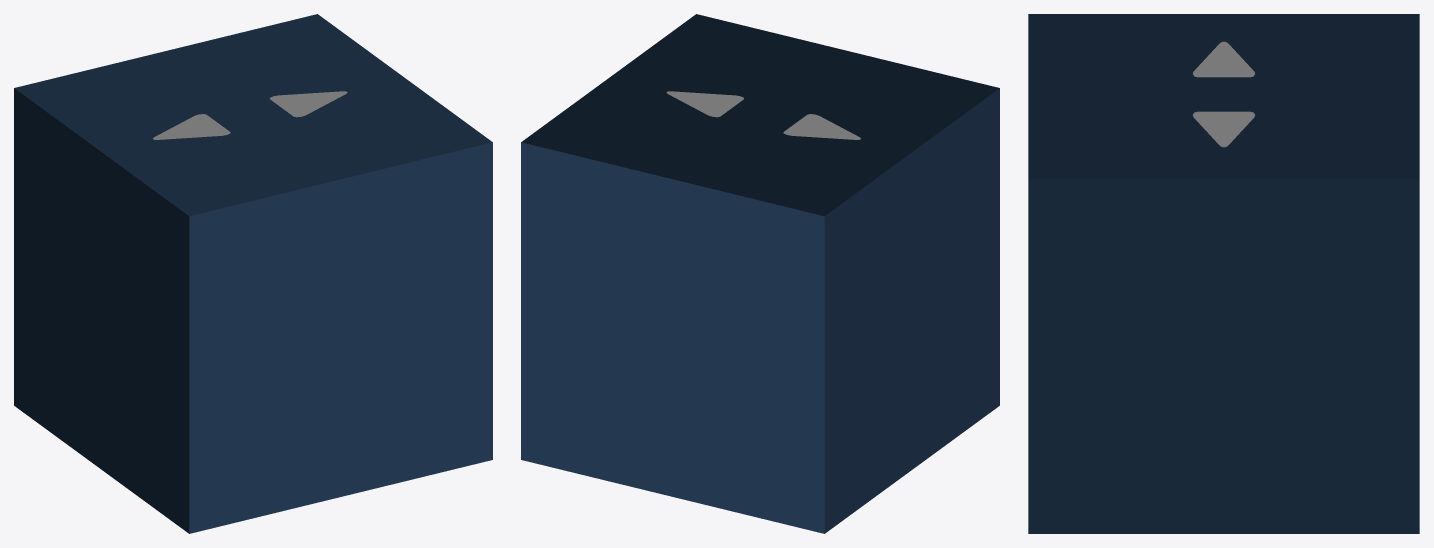
Rendered from 3D_Mover.fbx.
3 renders of one model, left to right at view 1: azimuth 30°, elevation 25°; view 2: azimuth 150°, elevation 25°; view 3: azimuth 270°, elevation 25°, orthographic. The views are drawn at different scales.
Parts seen in each view (by area): view 1: 3D_Mover; view 2: 3D_Mover; view 3: 3D_Mover.
Boxes of the visible parts, x1=… form: 3D_Mover: x1=14, y1=14, x2=492, y2=533; 3D_Mover: x1=521, y1=14, x2=999, y2=533; 3D_Mover: x1=1028, y1=14, x2=1419, y2=533.
Bounding box in the file's own units: 100 × 100 × 100.
Materials: 1 (1 with a texture image).
